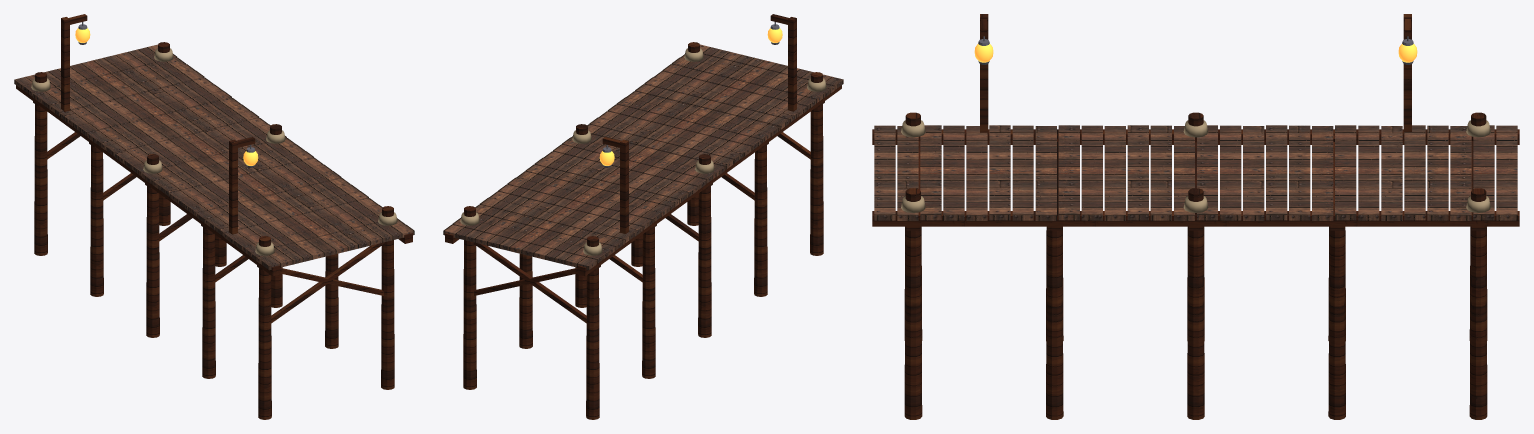
File: harbor_pier.glb
3 renders of one model, left to right at view 1: azimuth 30°, elevation 25°; view 2: azimuth 150°, elevation 25°; view 3: azimuth 270°, elevation 25°, orthographic. The views are drawn at different scales.
Visible parts, largest first — view 1: harbor_pier_harbor_planks, harbor_pier_charred, harbor_pier_hemp_rope, harbor_pier_chochin_glow; view 2: harbor_pier_harbor_planks, harbor_pier_charred, harbor_pier_hemp_rope, harbor_pier_chochin_glow; view 3: harbor_pier_harbor_planks, harbor_pier_charred, harbor_pier_hemp_rope, harbor_pier_chochin_glow.
Part boxes in pixels (x1,y1,x2,y2): harbor_pier_harbor_planks: [14, 44, 414, 270]; harbor_pier_charred: [16, 14, 412, 419]; harbor_pier_hemp_rope: [31, 48, 397, 255]; harbor_pier_chochin_glow: [75, 28, 258, 165]; harbor_pier_harbor_planks: [443, 44, 843, 270]; harbor_pier_charred: [445, 14, 841, 419]; harbor_pier_hemp_rope: [460, 48, 826, 255]; harbor_pier_chochin_glow: [599, 28, 782, 165]; harbor_pier_harbor_planks: [874, 125, 1517, 220]; harbor_pier_charred: [872, 14, 1519, 419]; harbor_pier_hemp_rope: [901, 120, 1490, 212]; harbor_pier_chochin_glow: [974, 44, 1417, 62].
Bounding box in the file's own units: 3.6 × 6.05 × 11.
Materials: 5 (2 with a texture image).
